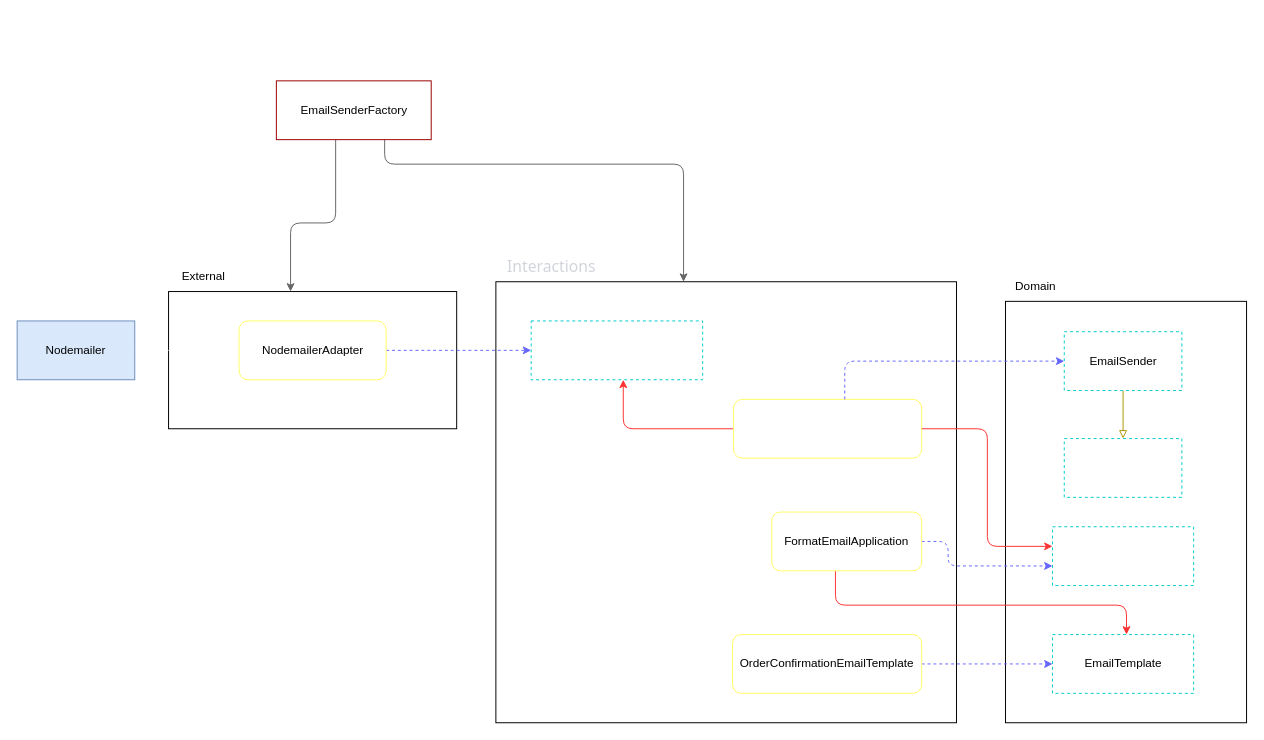
The diagram is 1264 pixels wide and 740 high, and some of its shapes have lost their labels. The centre of each missing label's shape, as x and y in pixels:
"EmailSenderProvider" goes at point (616, 350).
"EmailSenderUseCase" goes at point (827, 428).
"Event" goes at point (1122, 467).
"FormatEmail" goes at point (1123, 556).
